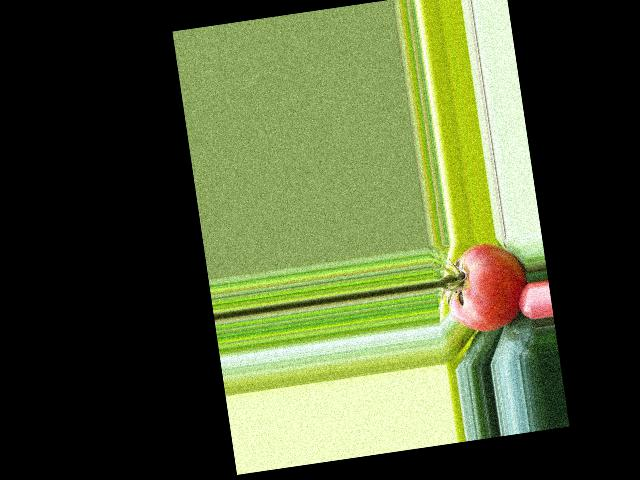tomato: (440, 238, 533, 335)
